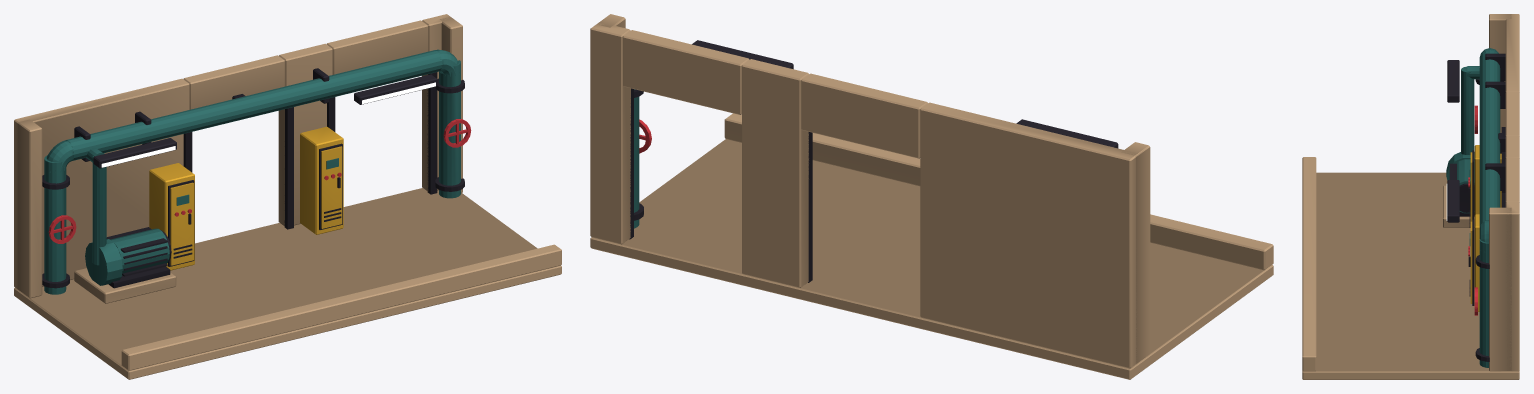
The picture shows the model from 3 angles, left to right: view 1: azimuth 30°, elevation 25°; view 2: azimuth 150°, elevation 25°; view 3: azimuth 270°, elevation 25°; orthographic projection. The views are drawn at different scales.
Parts seen in each view (by area): view 1: body_pal_khakiLight, body_pal_backpackTeal, body_pal_uiDark, body_pal_schoolBusYellow, body_pal_survivorRed, body_emi_picketWhite; view 2: body_pal_khakiLight, body_pal_uiDark, body_pal_backpackTeal; view 3: body_pal_khakiLight, body_pal_backpackTeal, body_pal_uiDark, body_pal_schoolBusYellow, body_pal_survivorRed.
Boxes of the visible parts, x1,y1,x2,y2 form: body_pal_khakiLight: (14,14,561,379); body_pal_backpackTeal: (44,49,460,294); body_pal_uiDark: (42,68,464,288); body_pal_schoolBusYellow: (149,126,343,270); body_pal_survivorRed: (48,119,471,243); body_emi_picketWhite: (101,82,435,167); body_pal_khakiLight: (590,14,1273,379); body_pal_uiDark: (629,40,1118,282); body_pal_backpackTeal: (634,89,639,228); body_pal_khakiLight: (1302,14,1519,379); body_pal_backpackTeal: (1446,48,1500,367); body_pal_uiDark: (1447,53,1505,361); body_pal_schoolBusYellow: (1470,145,1501,311); body_pal_survivorRed: (1468,105,1477,315).
Size of the model in its own units: 10 by 3.9 by 4.6.
